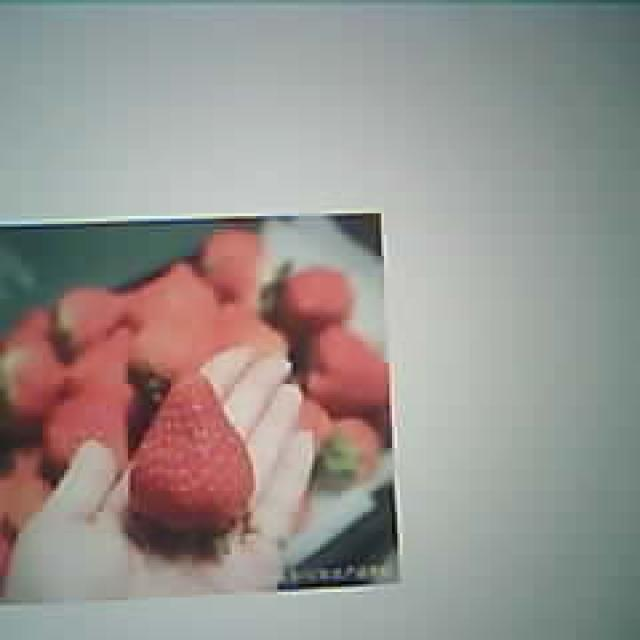strawberry: (128, 372, 254, 534)
